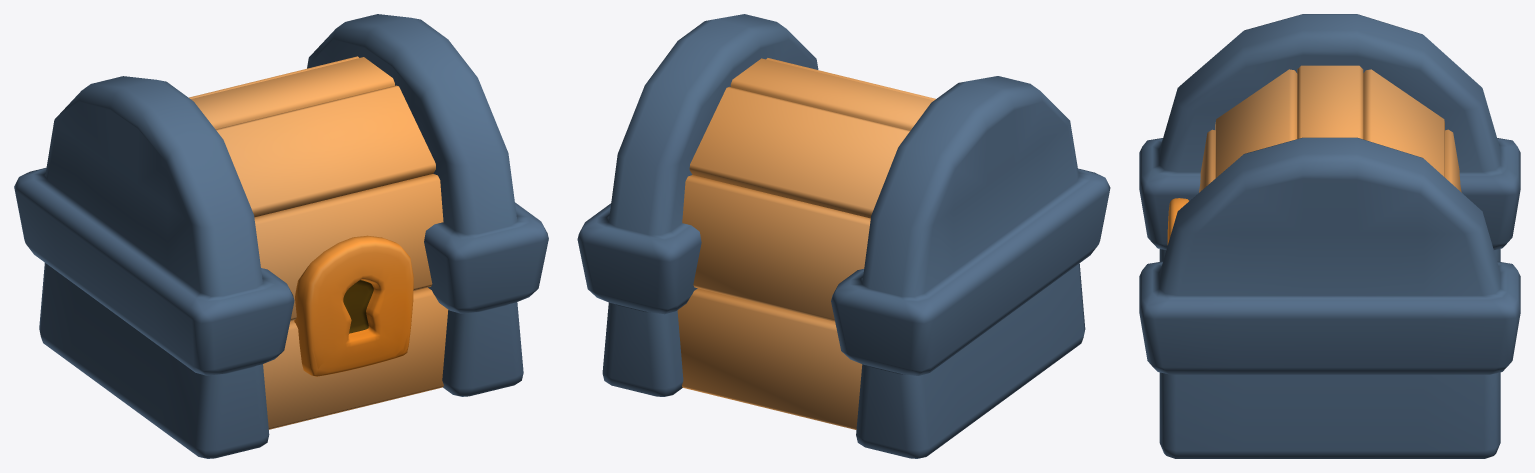
The model's file is Chest 2.fbx.
The picture shows the model from 3 angles, left to right: view 1: azimuth 30°, elevation 25°; view 2: azimuth 150°, elevation 25°; view 3: azimuth 270°, elevation 25°; orthographic projection.
Parts seen in each view (by area): view 1: Cube.008; view 2: Cube.008; view 3: Cube.008.
Part boxes in pixels (<box>): Cube.008: <box>14,14,548,458</box>; Cube.008: <box>577,14,1110,458</box>; Cube.008: <box>1139,14,1520,458</box>.
Size of the model in its own units: 216 by 175 by 201.
